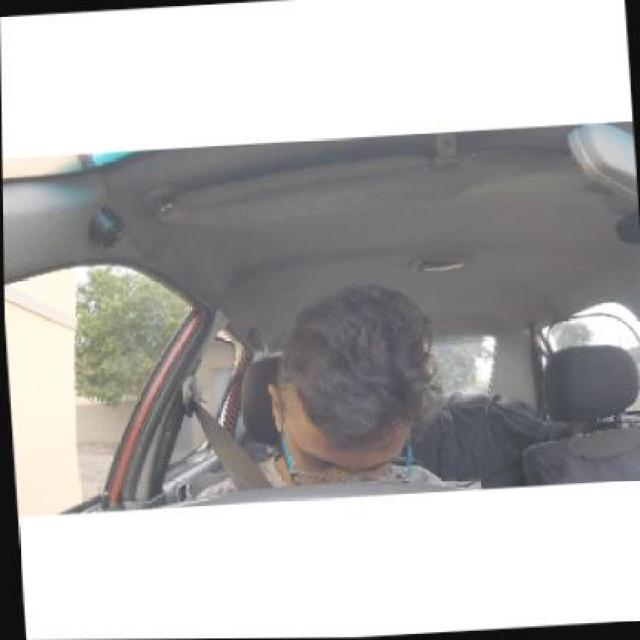drowsy: (263, 283, 449, 486)
